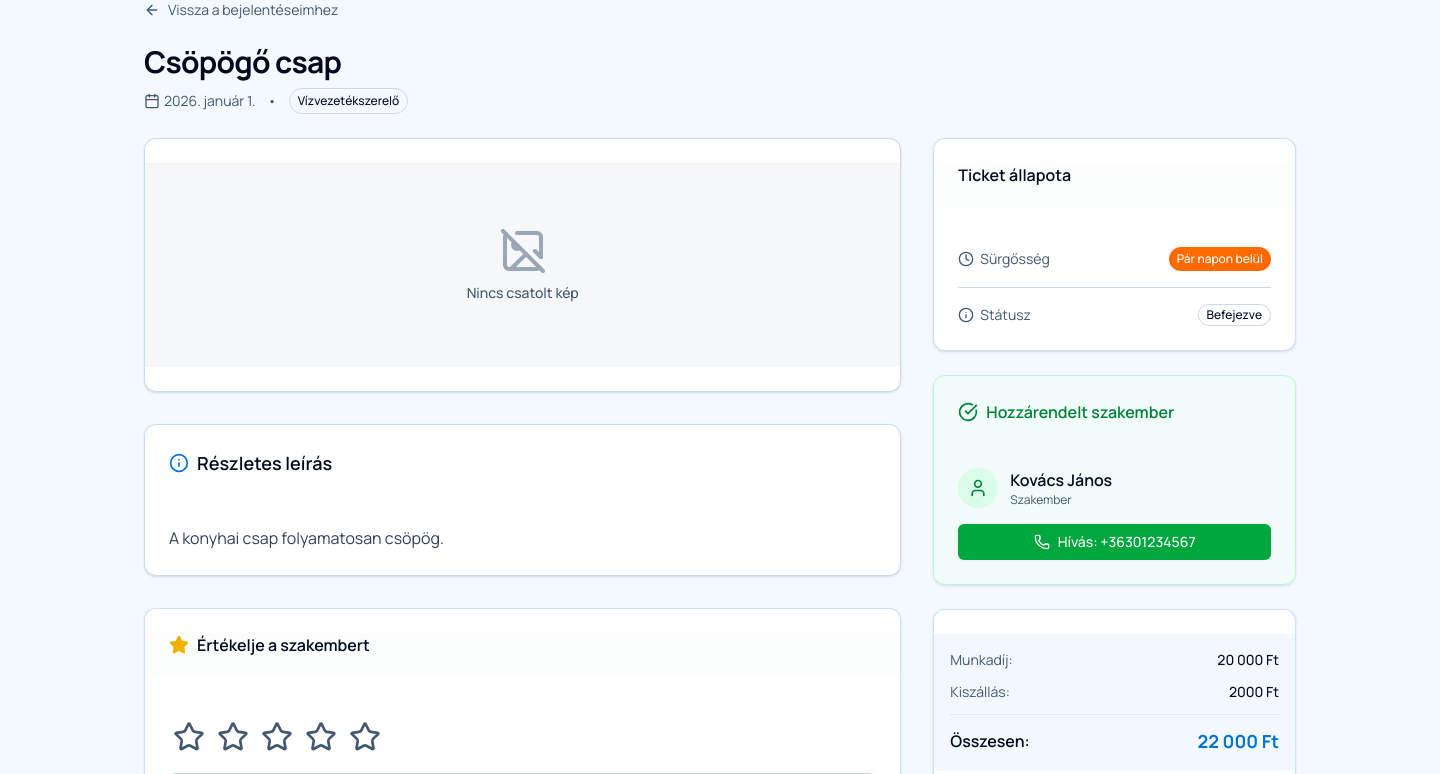
Test case: TicketDetailPage – review submission flow › shows thank-you message after review submitted
Click the button named "5 csillag": (365, 737) [345,717,385,757]
(page scrolled)
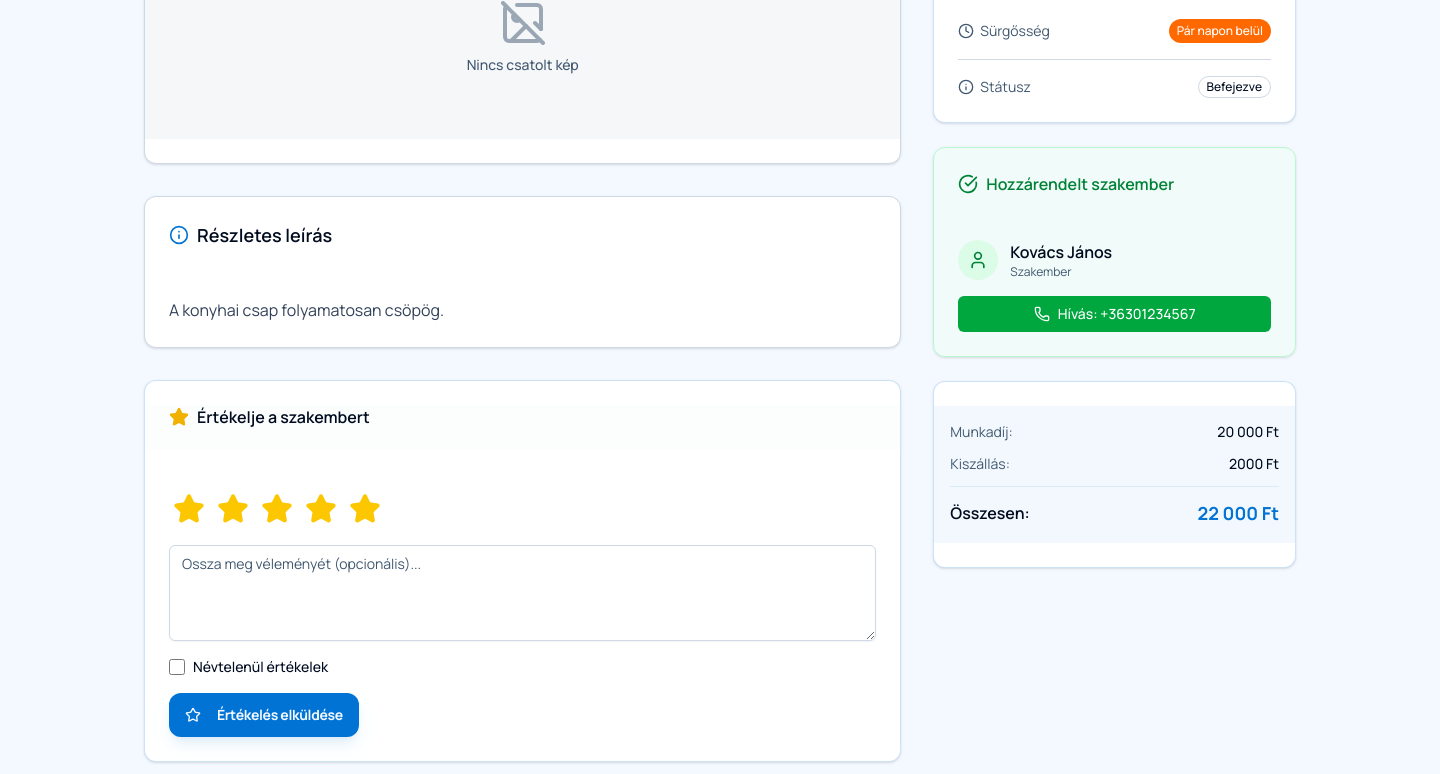
Click the button "Értékelés elküldése": (264, 715) [169,693,359,737]
(page scrolled)
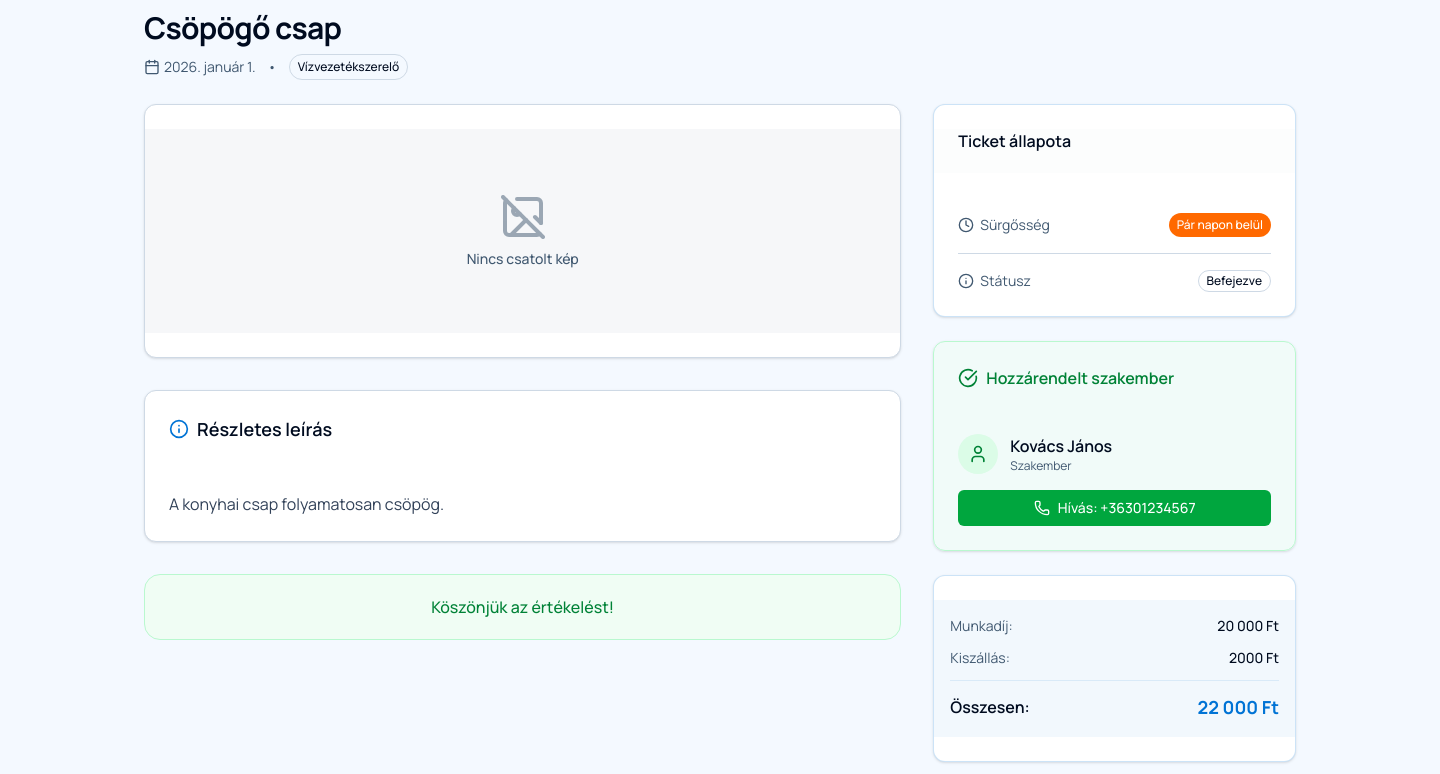
Expected: the text "Köszönjük az értékelést!" is shown, [431,596,614,618]
